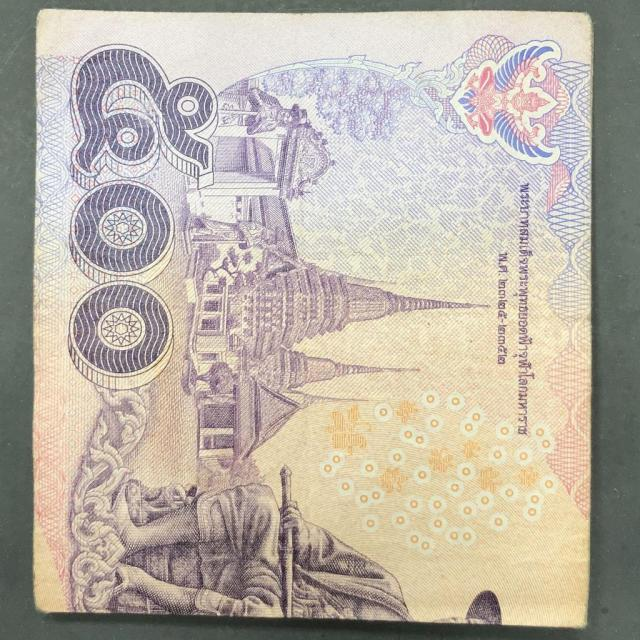THAI500: (32, 9, 592, 627)
